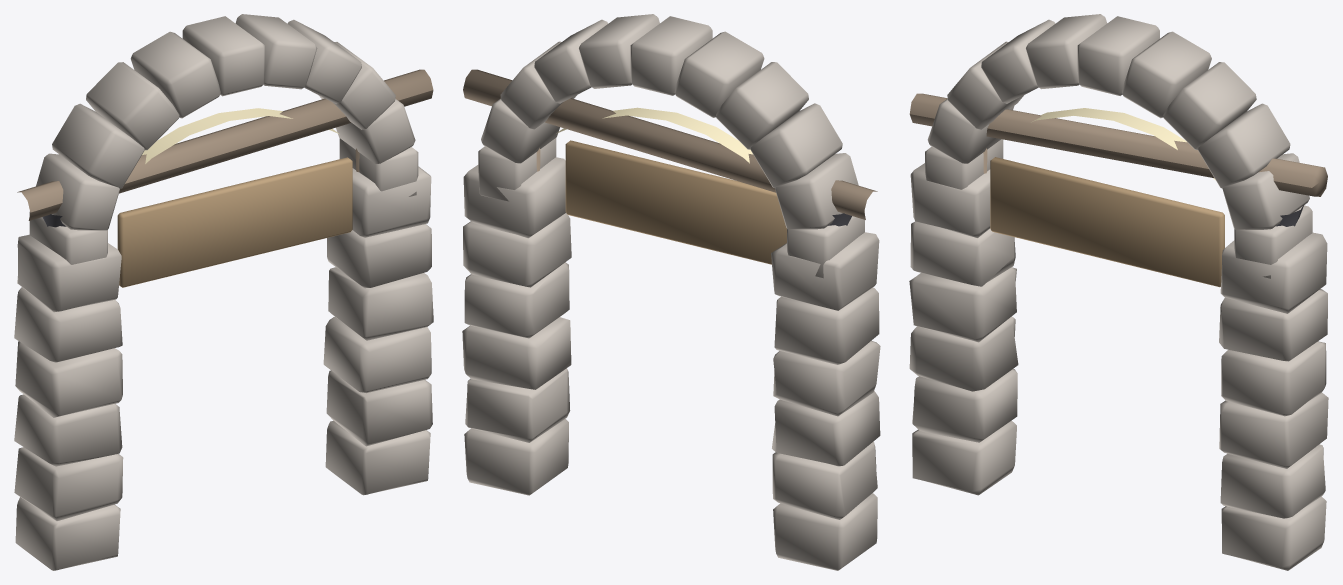
The model's file is adventure_hub.glb.
3 renders of one model, left to right at view 1: azimuth 30°, elevation 25°; view 2: azimuth 150°, elevation 25°; view 3: azimuth 330°, elevation 25°, orthographic.
Visible parts, largest first — view 1: gate_stone, gate_wood, gate_ring; view 2: gate_stone, gate_wood, gate_ring; view 3: gate_stone, gate_wood, gate_ring.
Boxes of the visible parts, bbox=[...] form: gate_stone: bbox=[14, 14, 433, 570]; gate_wood: bbox=[17, 69, 433, 287]; gate_ring: bbox=[42, 108, 339, 227]; gate_stone: bbox=[462, 14, 880, 570]; gate_wood: bbox=[463, 69, 877, 264]; gate_ring: bbox=[556, 107, 851, 226]; gate_stone: bbox=[909, 14, 1328, 570]; gate_wood: bbox=[909, 93, 1327, 287]; gate_ring: bbox=[1031, 108, 1304, 226].
Size of the model in its own units: 5.22 by 5.95 by 0.9563.
